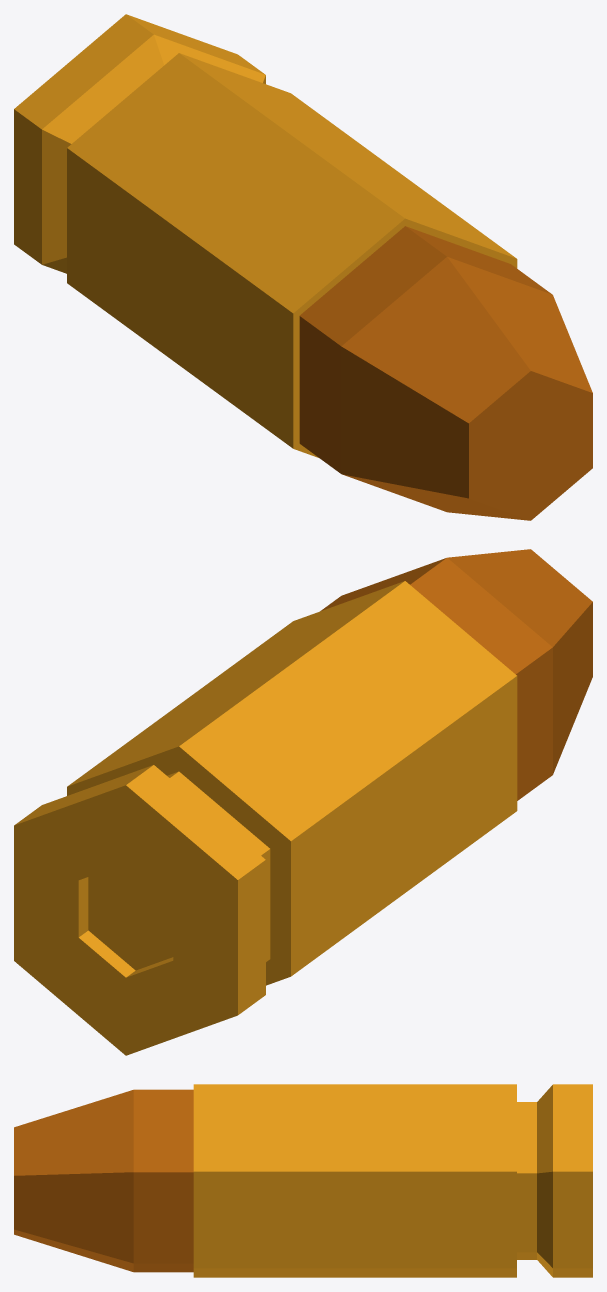
File: Bullet_Pistol_A.fbx
3 renders of one model, top to bottom at view 1: azimuth 30°, elevation 25°; view 2: azimuth 150°, elevation 25°; view 3: azimuth 270°, elevation 25°, orthographic. The views are drawn at different scales.
Visible parts, largest first — view 1: Bullet_Pistol_A, Bullet_Pistol_A_Part; view 2: Bullet_Pistol_A, Bullet_Pistol_A_Part; view 3: Bullet_Pistol_A, Bullet_Pistol_A_Part.
Boxes of the visible parts, x1,y1,x2,y2 form: Bullet_Pistol_A: (14,14,517,457); Bullet_Pistol_A_Part: (299,226,592,520); Bullet_Pistol_A: (14,581,517,1055); Bullet_Pistol_A_Part: (320,549,592,800); Bullet_Pistol_A: (193,1084,592,1277); Bullet_Pistol_A_Part: (14,1089,193,1272).
Size of the model in its own units: 0.0116 by 0.0134 by 0.0363.
